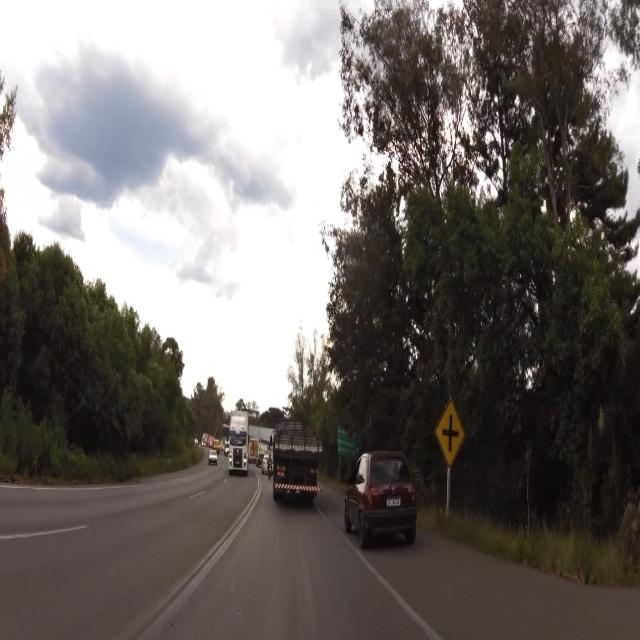A-6: (436, 399, 462, 463)
